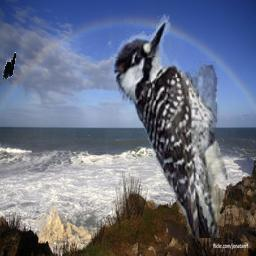Crow: (2, 51, 16, 79)
Woodpecker: (114, 14, 247, 238)
